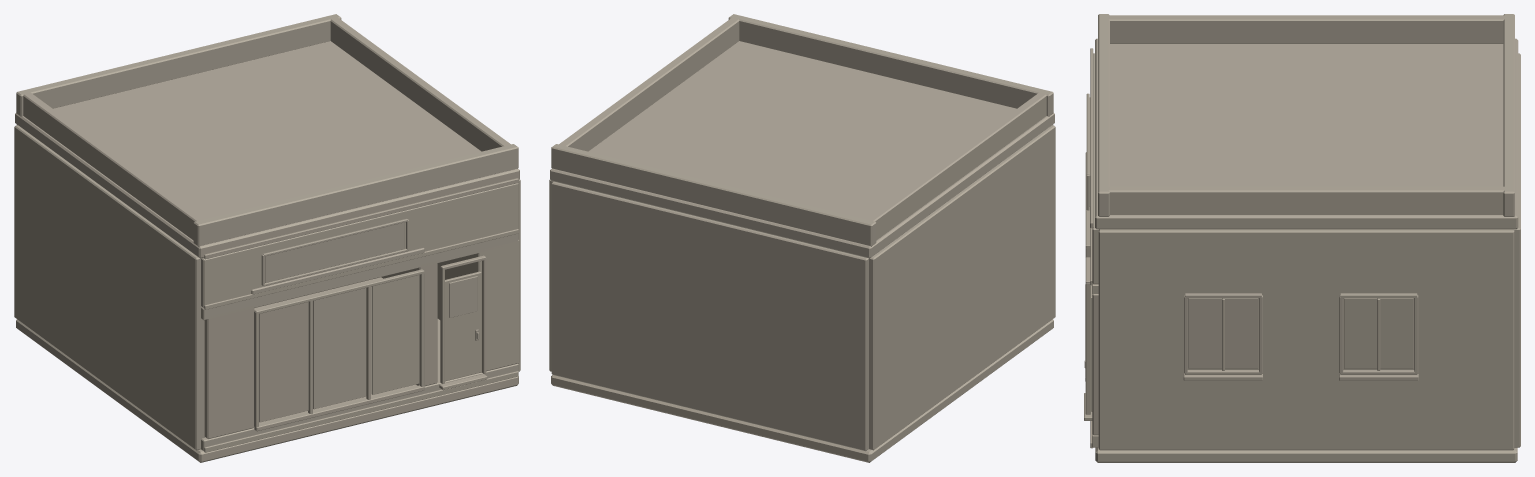
File: 0-20261016-1900-ev063-r12-town-lotsmall.fbx
The picture shows the model from 3 angles, left to right: view 1: azimuth 30°, elevation 25°; view 2: azimuth 150°, elevation 25°; view 3: azimuth 270°, elevation 25°; orthographic projection. The views are drawn at different scales.
Parts seen in each view (by area): view 1: SW_Town_LotSmall; view 2: SW_Town_LotSmall; view 3: SW_Town_LotSmall.
Boxes of the visible parts, x1,y1,x2,y2 form: SW_Town_LotSmall: (14,14,520,462); SW_Town_LotSmall: (549,14,1055,462); SW_Town_LotSmall: (1084,14,1520,462).
Size of the model in its own units: 816 by 560 by 815.
